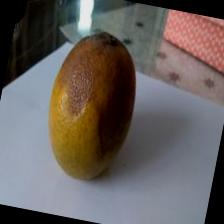Orange Rotten: (31, 4, 159, 194)
